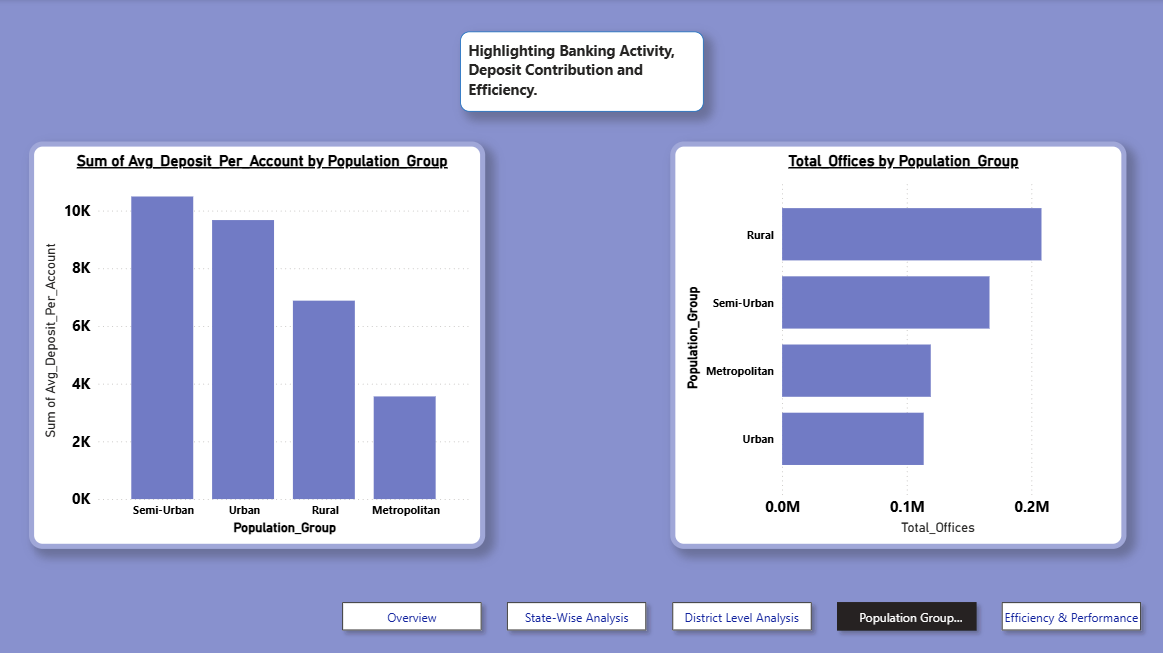

The page's visual inventory and layout, read from the dashboard file:
{"tool":"powerbi","page":{"name":"Population Group Banking Behaviour","canvas":[1280,720],"ordinal":3},"visuals":[{"type":"textbox","box":[506.3,35.7,267.6,87.8],"z":0},{"type":"columnChart","fields":{"Category":["Cleaned Data.Population_Group"],"Y":["Sum(Cleaned Data.Avg_Deposit_Per_Account)"]},"box":[32.9,156.4,500.9,447.3],"z":1000},{"type":"barChart","fields":{"Category":["Cleaned Data.Population_Group"],"Y":["Cleaned Data.Total_Offices"]},"box":[736.9,156.4,500.9,447.3],"z":2000},{"type":"pageNavigator","box":[367.8,653.2,897.4,49.4],"z":2001}]}

Visuals, with their boxes in screenshot pixels (x1, y1, x2, y2), scaled from the page's 1280x720 canvas onto the 1163x653 screenshot:
textbox: box(460, 32, 703, 112)
columnChart - Cleaned Data.Population_Group x Sum(Cleaned Data.Avg_Deposit_Per_Account): box(30, 142, 485, 548)
barChart - Cleaned Data.Population_Group x Cleaned Data.Total_Offices: box(670, 142, 1125, 548)
pageNavigator: box(334, 592, 1150, 637)
